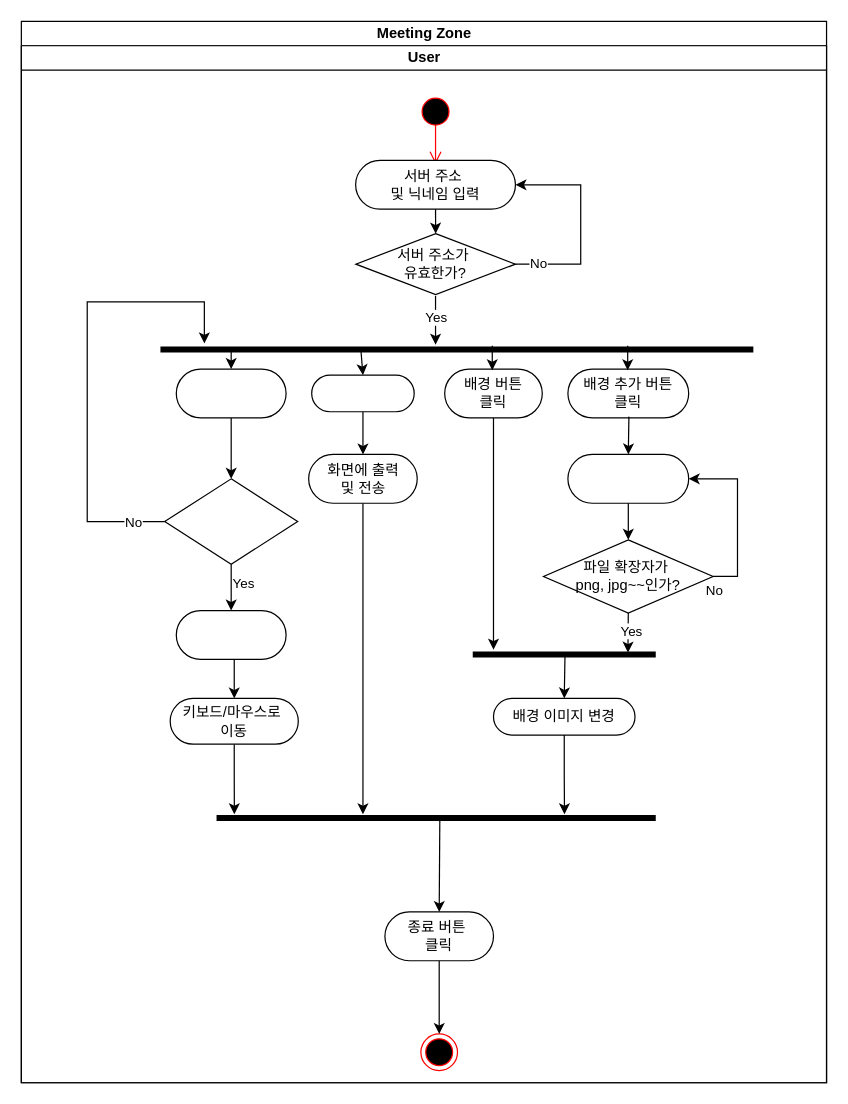
Some shapes in this 848 by 1104 pixel diagram are drawn without their labels. The centre of each missing label's shape, as x and y in pixels:
"로컬에서 배경 이미지 선택" goes at point 628,478.
"메시지 입력" goes at point 362,393.
"실시간 영상 출력" goes at point 230,634.
"카메라 버튼 클릭" goes at point 230,393.
"카메라 연결이 되었는가?" goes at point 230,521.
